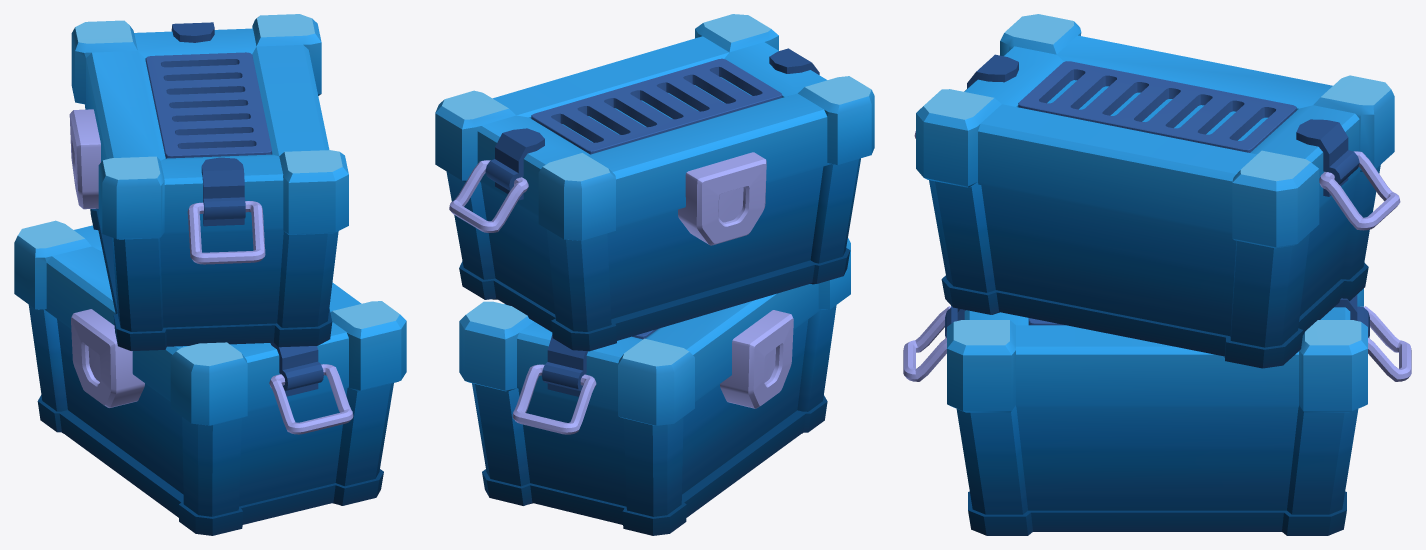
File: ammo_box.fbx
3 renders of one model, left to right at view 1: azimuth 30°, elevation 25°; view 2: azimuth 150°, elevation 25°; view 3: azimuth 270°, elevation 25°, orthographic. The views are drawn at different scales.
Parts seen in each view (by area): view 1: Military_base_box_1; view 2: Military_base_box_1; view 3: Military_base_box_1.
Part boxes in pixels (bbox=[...]): Military_base_box_1: bbox=[14, 14, 406, 535]; Military_base_box_1: bbox=[435, 14, 874, 535]; Military_base_box_1: bbox=[903, 14, 1411, 535].
Size of the model in its own units: 0.8641 by 0.9206 by 1.08.
